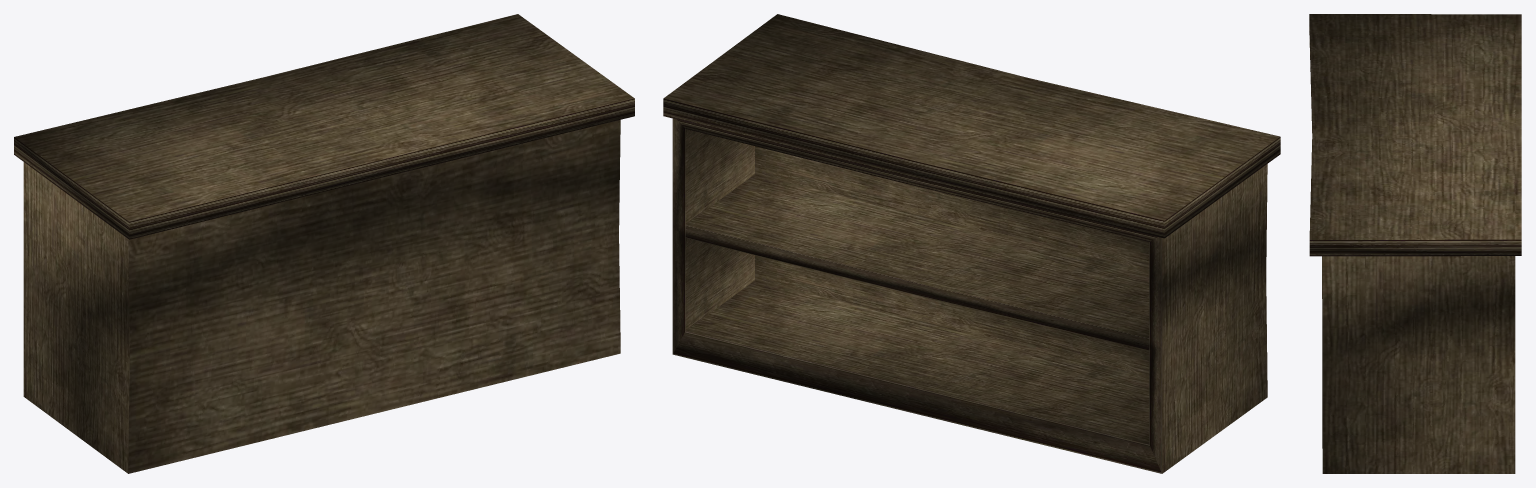
File: GS_VOB_COUNTER_BROWN_01_KOZA.glb
3 renders of one model, left to right at view 1: azimuth 30°, elevation 25°; view 2: azimuth 150°, elevation 25°; view 3: azimuth 270°, elevation 25°, orthographic. The views are drawn at different scales.
Visible parts, largest first — view 1: Mesh; view 2: Mesh; view 3: Mesh.
Boxes of the visible parts, bbox=[...] form: Mesh: bbox=[14, 14, 634, 473]; Mesh: bbox=[663, 14, 1280, 473]; Mesh: bbox=[1309, 14, 1521, 473].
Size of the model in its own units: 2.08 by 1.02 by 0.8243.
Materials: 2 (2 with a texture image).
